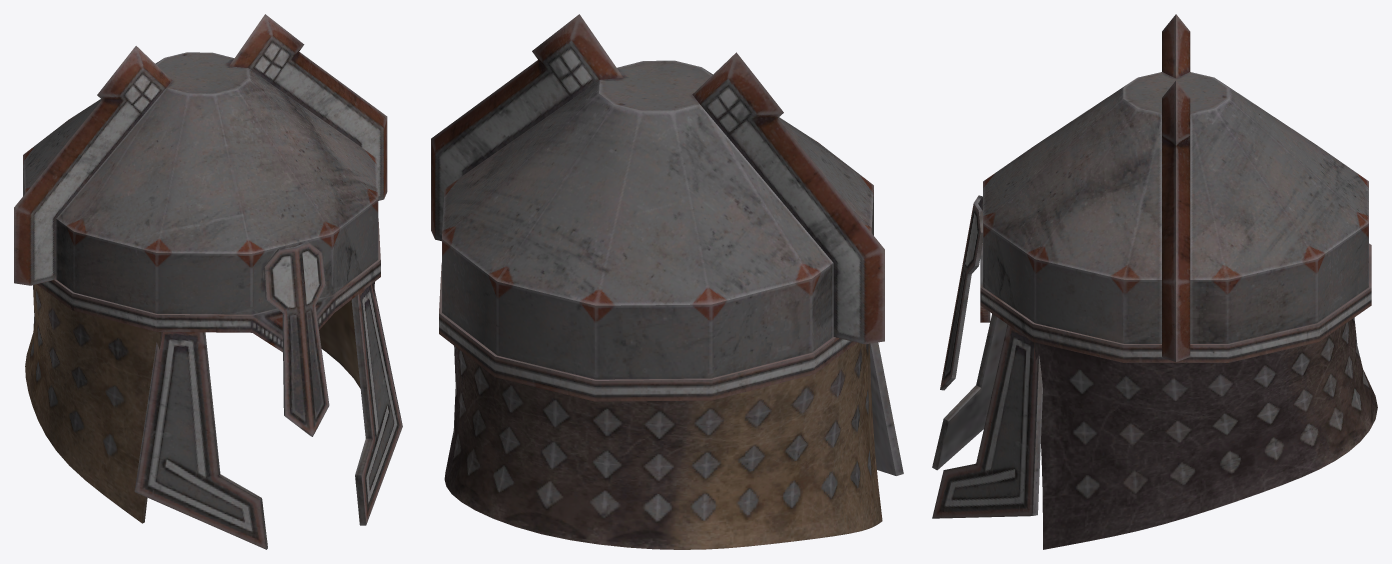
File: sk_dwarf_iron_helmet_med_c1.fbx
3 renders of one model, left to right at view 1: azimuth 30°, elevation 25°; view 2: azimuth 150°, elevation 25°; view 3: azimuth 270°, elevation 25°, orthographic. The views are drawn at different scales.
Visible parts, largest first — view 1: sk_dwarf_iron_helmet_med_c1.0, sk_dwarf_iron_helmet_med_c1.1; view 2: sk_dwarf_iron_helmet_med_c1.0, sk_dwarf_iron_helmet_med_c1.1; view 3: sk_dwarf_iron_helmet_med_c1.0, sk_dwarf_iron_helmet_med_c1.1.
Boxes of the visible parts, x1,y1,x2,y2 form: sk_dwarf_iron_helmet_med_c1.0: (14,14,402,549); sk_dwarf_iron_helmet_med_c1.1: (25,282,374,523); sk_dwarf_iron_helmet_med_c1.0: (431,14,903,475); sk_dwarf_iron_helmet_med_c1.1: (444,342,882,549); sk_dwarf_iron_helmet_med_c1.0: (932,14,1371,518); sk_dwarf_iron_helmet_med_c1.1: (1034,317,1377,549).
Size of the model in its own units: 0.3211 by 0.3153 by 0.3488.
